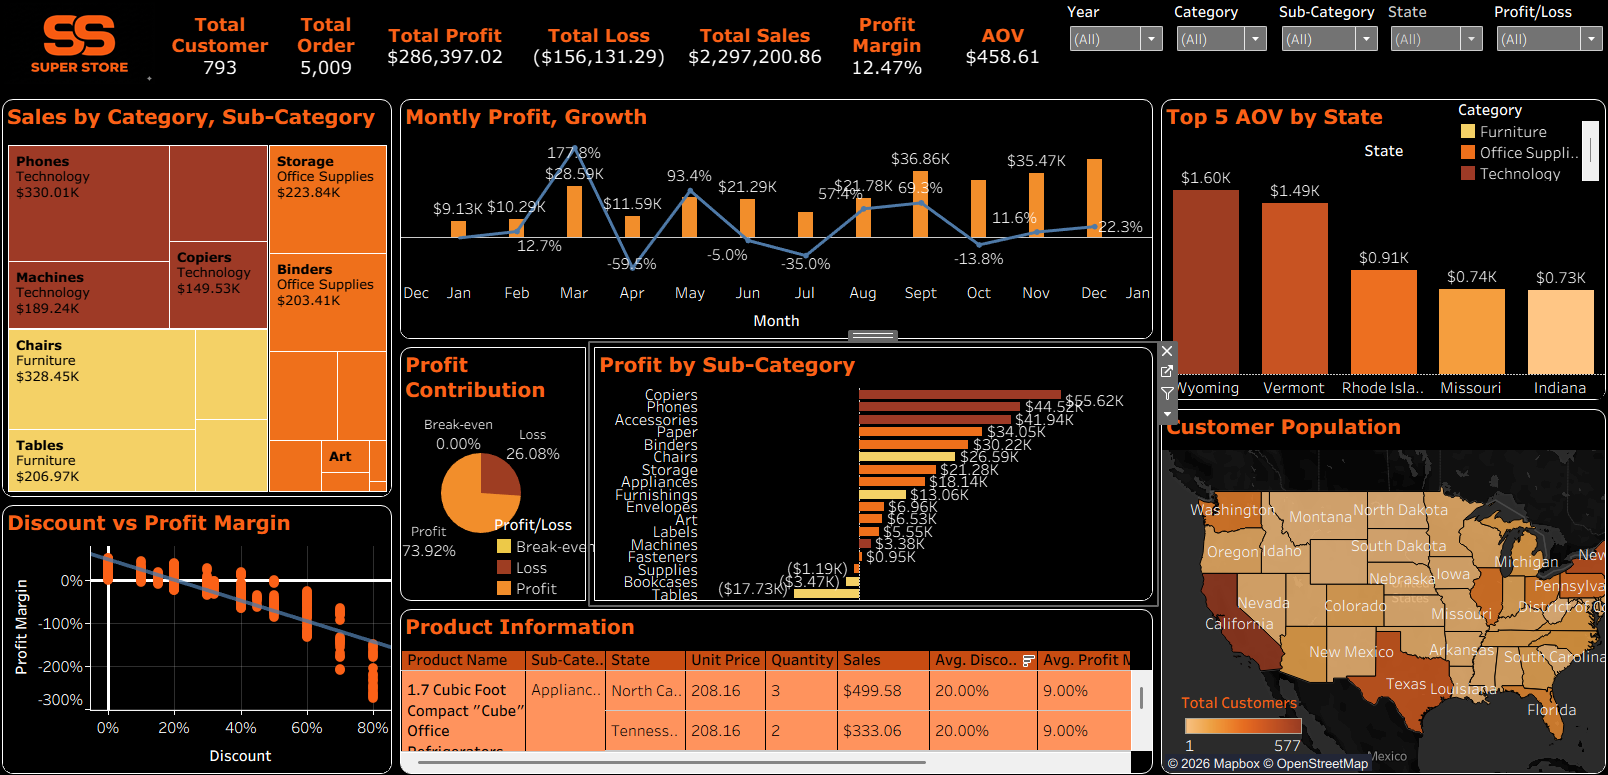

The page's visual inventory and layout, read from the dashboard file:
{"tool":"tableau","page":{"name":"Product Analysis Dashboard","canvas":[1000,1000],"units":"permille","ordinal":0},"visuals":[{"type":"image","param":"C:/Users/daryo/Downloads/Gemini_Generated_Image_icoeyzicoeyzicoe.png","box":[4.9,10,99.8,123.3]},{"type":"worksheet","title":"Total_Customer","mark":"Automatic","box":[104.8,10,73.8,123.3]},{"type":"worksheet","title":"Total_Order","mark":"Automatic","box":[178.6,10,55.1,123.3]},{"type":"worksheet","title":"Total_Profit","mark":"Automatic","box":[233.6,10,91.4,123.3]},{"type":"worksheet","title":"Total_Loss","mark":"Automatic","box":[325.1,10,97.7,123.3]},{"type":"worksheet","title":"Total_Sales","mark":"Automatic","box":[422.8,10,94,123.3]},{"type":"worksheet","title":"Profit_Margin","mark":"Automatic","box":[516.8,10,68.2,123.3]},{"type":"worksheet","title":"Average_Order_Value","mark":"Automatic","box":[585,10,74.3,123.3]},{"type":"filter","title":"Montly Profit, Growth","param":"[federated.0bgfio41al7uq412jk5po1iy3dud].[yr:Order_Date:ok]","box":[659.3,10,65.8,123.3]},{"type":"filter","title":"Sales by Category, Sub-Category","param":"[federated.0bgfio41al7uq412jk5po1iy3dud].[none:Category:nk]","box":[725.1,10,64,123.3]},{"type":"filter","title":"Profit by Sub-Category","param":"[federated.0bgfio41al7uq412jk5po1iy3dud].[none:Sub-Category:nk]","box":[789,10,67.5,123.3]},{"type":"filter","title":"Average_Order_Value","param":"[federated.0bgfio41al7uq412jk5po1iy3dud].[none:State:nk]","box":[856.5,10,65,123.3]},{"type":"filter","title":"Product Information","param":"[federated.0bgfio41al7uq412jk5po1iy3dud].[none:Calculation_1284789704314883:nk]","box":[921.5,10,73.5,123.3]},{"type":"worksheet","title":"Sales by Category, Sub-Category","mark":"Automatic","box":[4.9,133.3,244.3,509.2]},{"type":"worksheet","title":"Montly Profit, Growth","mark":"Line","rows":["Profit","Calculation_1284789823873031"],"cols":["Order_Date"],"box":[249.3,133.3,467.5,310.6]},{"type":"worksheet","title":"Top 5 AOV by State","mark":"Bar","rows":["Calculation_0928822346317826"],"cols":["State"],"box":[716.8,133.3,278.3,388]},{"type":"legend","title":"Profit by Sub-Category","param":"[federated.0bgfio41al7uq412jk5po1iy3dud].[none:Category:nk]","box":[901.6,137.5,88.1,103.4]},{"type":"worksheet","title":"Profit Contribution","mark":"Pie","box":[249.3,443.9,119.1,328.7]},{"type":"worksheet","title":"Profit by Sub-Category","mark":"Automatic","rows":["Sub-Category"],"cols":["Profit"],"box":[368.3,443.9,348.4,328.7]},{"type":"worksheet","title":"Customer Population","mark":"Multipolygon","box":[716.8,521.4,278.3,468.6]},{"type":"worksheet","title":"Scat_DIscount_ProfitMargin","mark":"Automatic","rows":["profit_margin"],"cols":["Discount"],"box":[4.9,642.5,244.3,347.5]},{"type":"legend","title":"Profit Contribution","param":"[federated.0bgfio41al7uq412jk5po1iy3dud].[none:Calculation_1284789704314883:nk]","box":[309.6,658.7,66.1,106.7]},{"type":"worksheet","title":"Product Information","mark":"Text","rows":["Product_Name","Sub-Category","State","unit_price","Quantity","Sales","Discount","profit_margin","Profit","Calculation_1284789704314883"],"box":[249.3,772.6,467.5,217.4]},{"type":"legend","title":"Customer Population","param":"[federated.0bgfio41al7uq412jk5po1iy3dud].[ctd:Customer_ID:qk]","box":[731.5,882.5,76.5,82.3]}]}

Visuals, with their boxes on the dashboard's canvas, which has no fixed pixel size, in thousandths of its width and height (x1, y1, x2, y2). These are canvas units, not pixel positions in the 1608x775 screenshot, which may show the page scaled, cropped or inside an application window:
image: 5:10:105:133
"Total_Customer" worksheet: 105:10:179:133
"Total_Order" worksheet: 179:10:234:133
"Total_Profit" worksheet: 234:10:325:133
"Total_Loss" worksheet: 325:10:423:133
"Total_Sales" worksheet: 423:10:517:133
"Profit_Margin" worksheet: 517:10:585:133
"Average_Order_Value" worksheet: 585:10:659:133
"Montly Profit, Growth" filter: 659:10:725:133
"Sales by Category, Sub-Category" filter: 725:10:789:133
"Profit by Sub-Category" filter: 789:10:856:133
"Average_Order_Value" filter: 856:10:922:133
"Product Information" filter: 922:10:995:133
"Sales by Category, Sub-Category" worksheet: 5:133:249:642
"Montly Profit, Growth" worksheet (Line marks): 249:133:717:444
"Top 5 AOV by State" worksheet (Bar marks): 717:133:995:521
"Profit by Sub-Category" legend: 902:138:990:241
"Profit Contribution" worksheet (Pie marks): 249:444:368:773
"Profit by Sub-Category" worksheet: 368:444:717:773
"Customer Population" worksheet (Multipolygon marks): 717:521:995:990
"Scat_DIscount_ProfitMargin" worksheet: 5:642:249:990
"Profit Contribution" legend: 310:659:376:765
"Product Information" worksheet (Text marks): 249:773:717:990
"Customer Population" legend: 732:882:808:965
